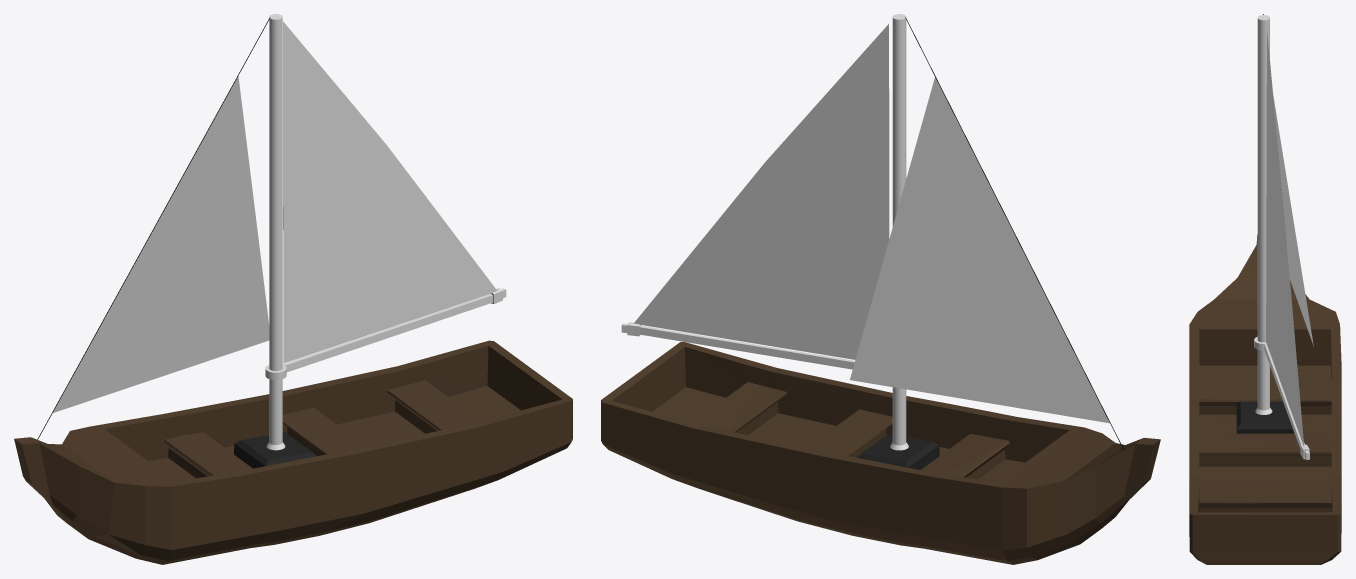
File: wip_boat_optimized_with_2sail_3.fbx
The picture shows the model from 3 angles, left to right: view 1: azimuth 30°, elevation 25°; view 2: azimuth 150°, elevation 25°; view 3: azimuth 270°, elevation 25°; orthographic projection. The views are drawn at different scales.
Visible parts, largest first — view 1: Boat, Back Sail, Plane, Mast; view 2: Boat, Back Sail, Plane, Mast; view 3: Boat, Back Sail, Mast, Plane.
Boxes of the visible parts, x1,y1,x2,y2 form: Boat: (14, 340, 572, 564); Back Sail: (283, 21, 497, 363); Plane: (53, 76, 269, 412); Mast: (265, 14, 506, 450); Boat: (601, 342, 1160, 564); Back Sail: (634, 24, 889, 359); Plane: (850, 77, 1109, 423); Mast: (621, 14, 908, 450); Boat: (1189, 234, 1341, 564); Back Sail: (1266, 30, 1304, 446); Mast: (1254, 15, 1309, 459); Plane: (1273, 96, 1313, 346).
Size of the model in its own units: 1741 by 1614 by 485.
